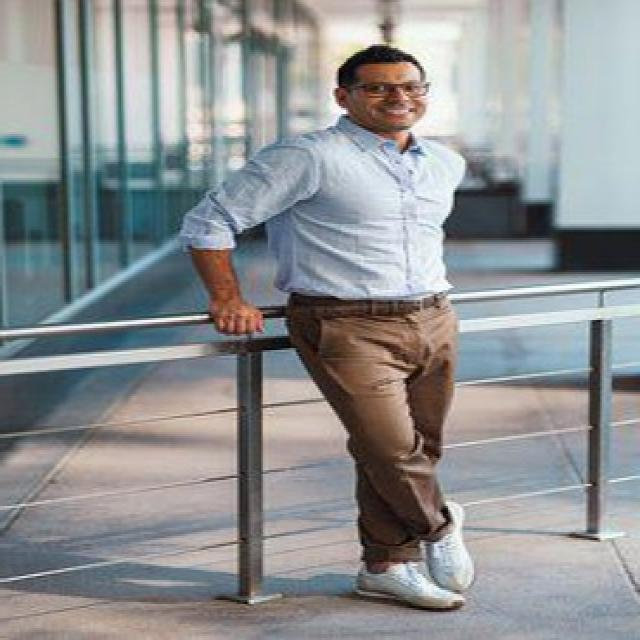adult: (190, 42, 465, 608)
